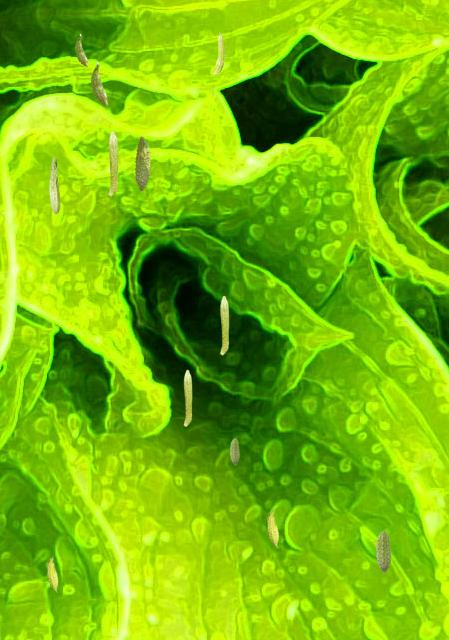ampalaya: (134, 136, 151, 191), (90, 61, 108, 106), (375, 529, 391, 573), (48, 157, 60, 214), (108, 131, 118, 196), (219, 295, 229, 355), (212, 32, 225, 75), (266, 507, 279, 548), (183, 369, 192, 426), (74, 33, 88, 67), (46, 554, 58, 593), (229, 437, 240, 465)
